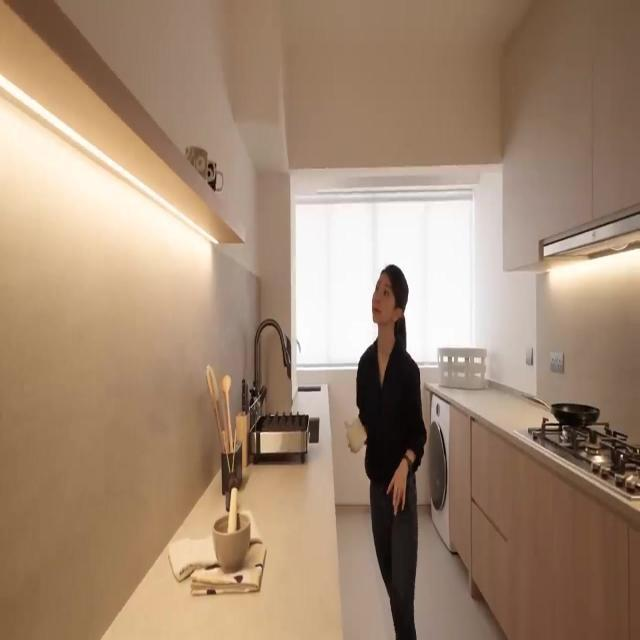obstacle: (100, 382, 344, 638), (500, 0, 640, 273)
person: (353, 263, 427, 639)
